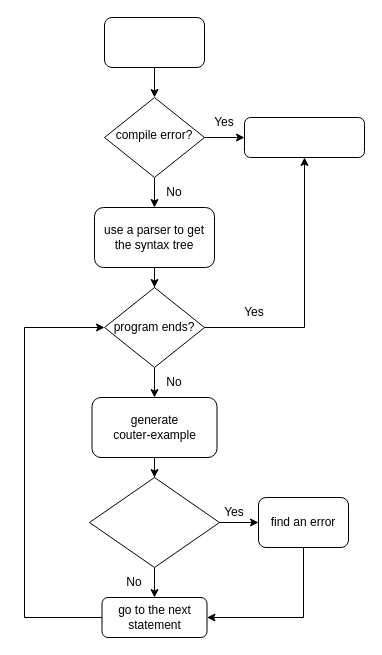
Image size: 382x655. Some labels were removed from this diagram. The shapes that lost their labels are listed below. From the top down, each one's centre as x and y in pixels, then its label:
At (154,42): "input a program".
At (304,137): "Halt".
At (154,522): "can the counter-example be satisfied?".
